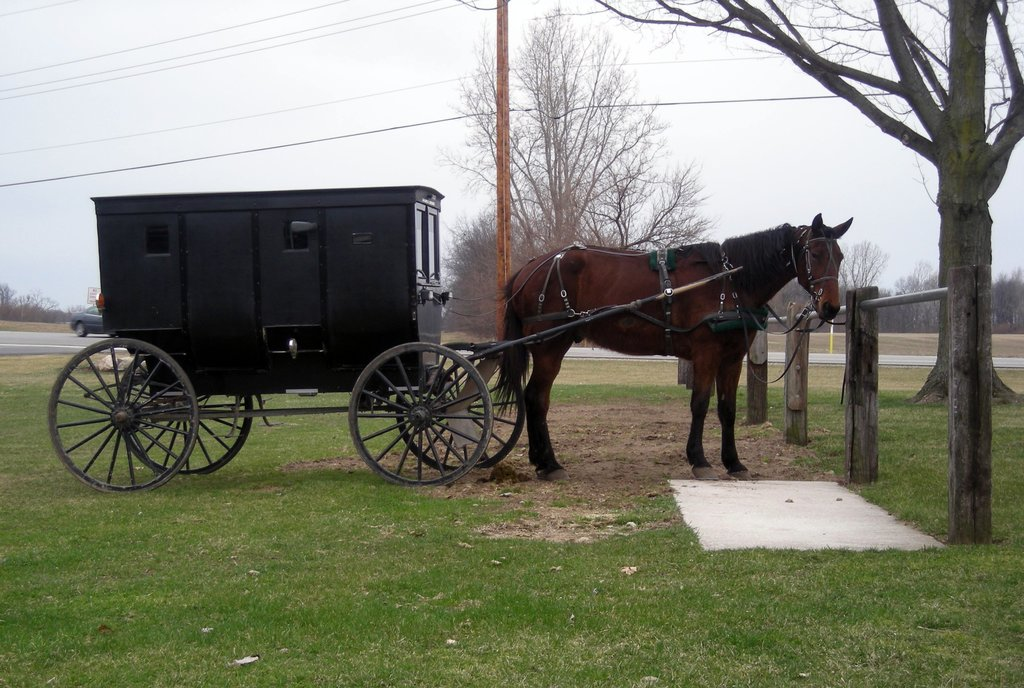horse: (489, 217, 854, 479)
